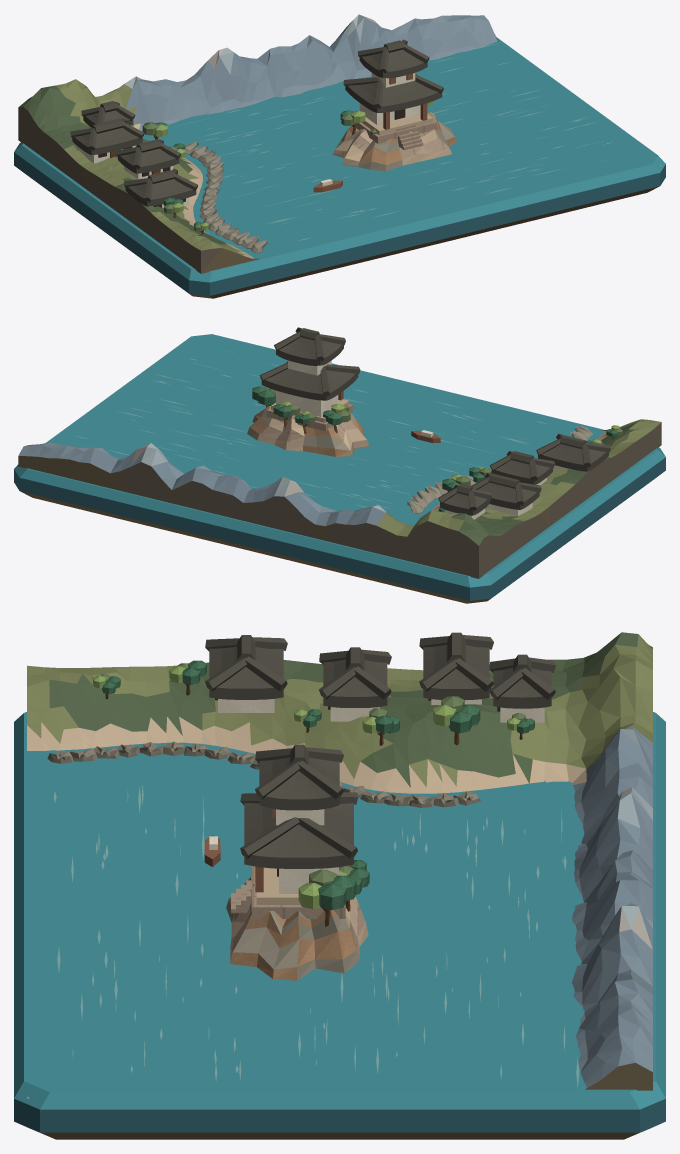
File: erhai.glb
The picture shows the model from 3 angles, top to bottom: view 1: azimuth 30°, elevation 25°; view 2: azimuth 150°, elevation 25°; view 3: azimuth 270°, elevation 25°; orthographic projection. The views are drawn at different scales.
Visible parts, largest first — view 1: 大理洱海·小普陀; view 2: 大理洱海·小普陀; view 3: 大理洱海·小普陀.
Part boxes in pixels (x1,y1,x2,y2): 大理洱海·小普陀: [14, 14, 665, 298]; 大理洱海·小普陀: [14, 327, 665, 603]; 大理洱海·小普陀: [14, 632, 665, 1139].
Bounding box in the file's own units: 6.15 × 1.66 × 4.25.
24 materials, 7 textured.
